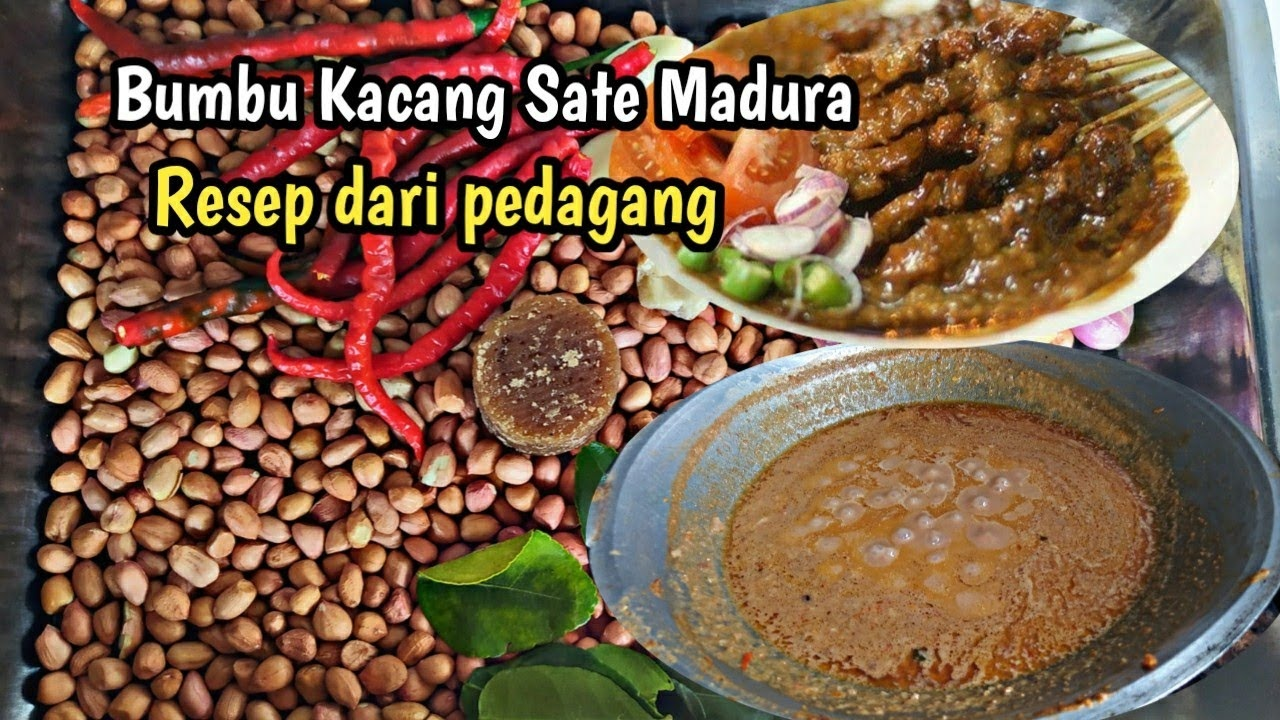sate_madura: (830, 11, 1205, 325)
